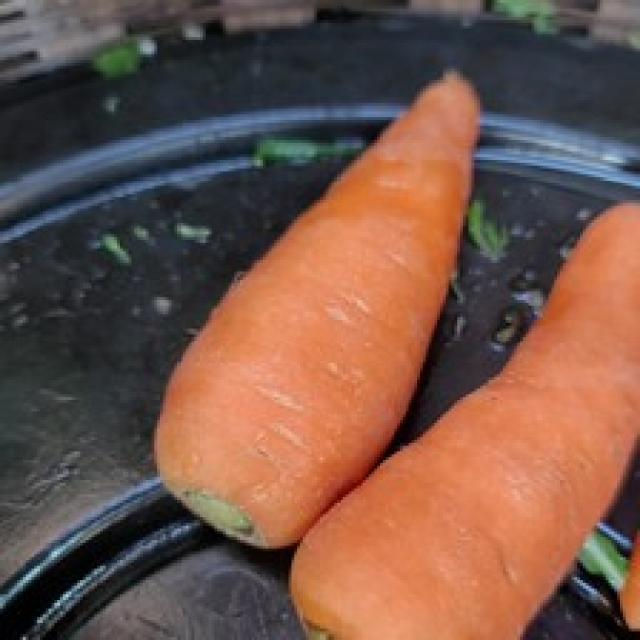carrot: (153, 76, 489, 552), (290, 200, 640, 637)
